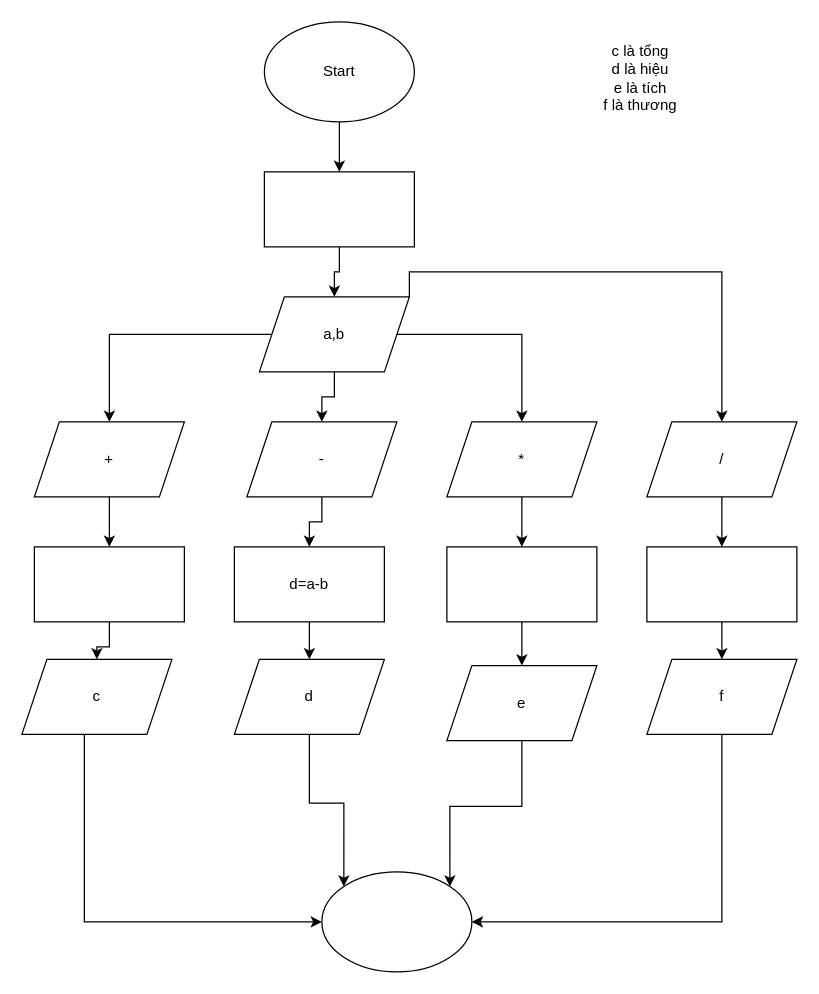
Image size: 819x994. Some labels were removed from this diagram. Here are the shapes that lost their labels. From the top down, the centre of each, then its label:
(338,209): a,b,c,d,e,f
(108,584): c=a+b
(521,584): e=a*b
(721,584): f=a/b
(396,921): End
